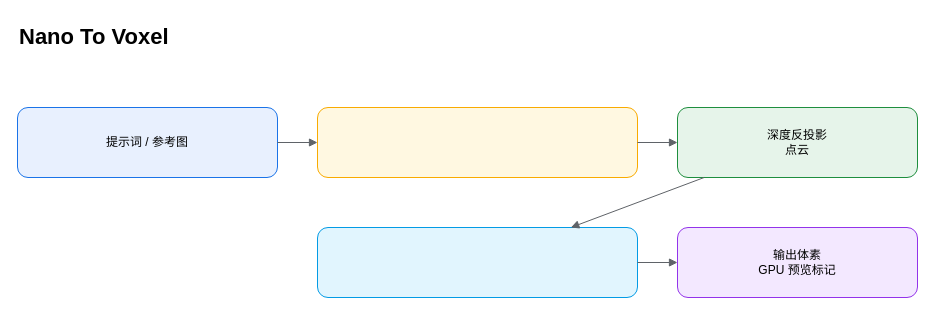
Some shapes in this 935 by 315 pixel diagram are drawn without their labels. Each missing label, with the box of its shape:
Gemini 生成 3x2 深度图集（正交）: (316, 106, 638, 178)
体素 Chunk 光栅化 稀疏 Chunk: (316, 226, 638, 298)
